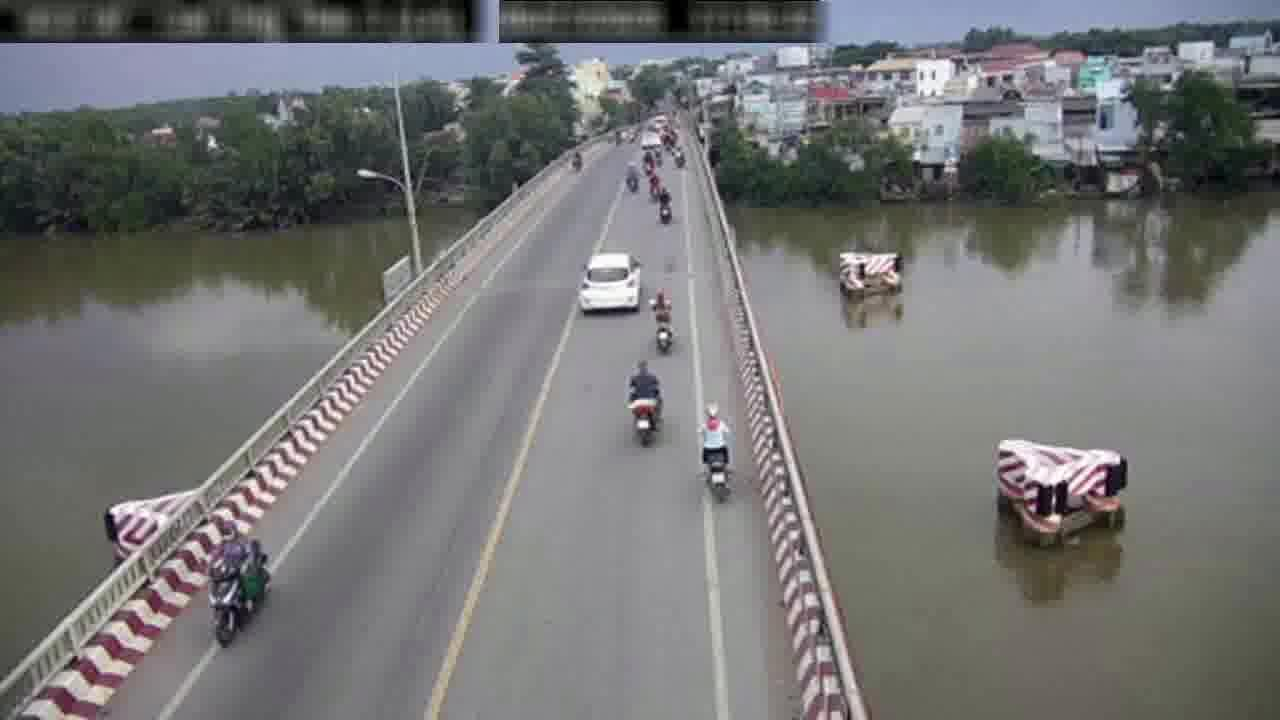container: (570, 246, 641, 316)
motorbike: (202, 515, 274, 652), (694, 394, 733, 507), (624, 354, 660, 444), (649, 282, 674, 354)
